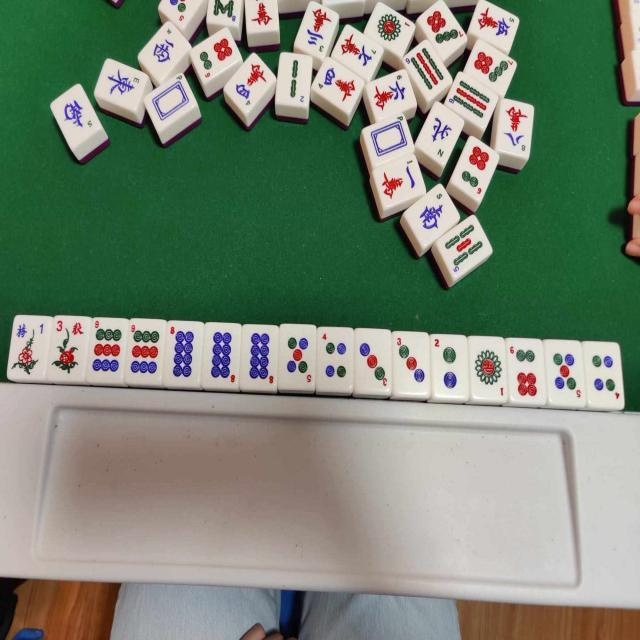bf1: (12, 323, 45, 381)
bs3: (47, 314, 82, 374)
hwn: (418, 104, 466, 167)
hww: (140, 21, 190, 83)
sb9: (444, 70, 502, 128), (402, 42, 453, 100)
sc8: (496, 100, 536, 160)
sd1: (473, 339, 507, 395)
sd2: (434, 336, 468, 393)
sd3: (396, 334, 430, 390), (356, 334, 389, 388)
sd4: (318, 328, 352, 384), (588, 347, 622, 400)
sd5: (548, 345, 584, 400), (282, 328, 314, 386)
sd6: (507, 340, 541, 398)
sd8: (205, 327, 238, 385), (246, 328, 278, 386), (170, 324, 202, 382)
sd9: (90, 320, 122, 378), (128, 324, 162, 378)
